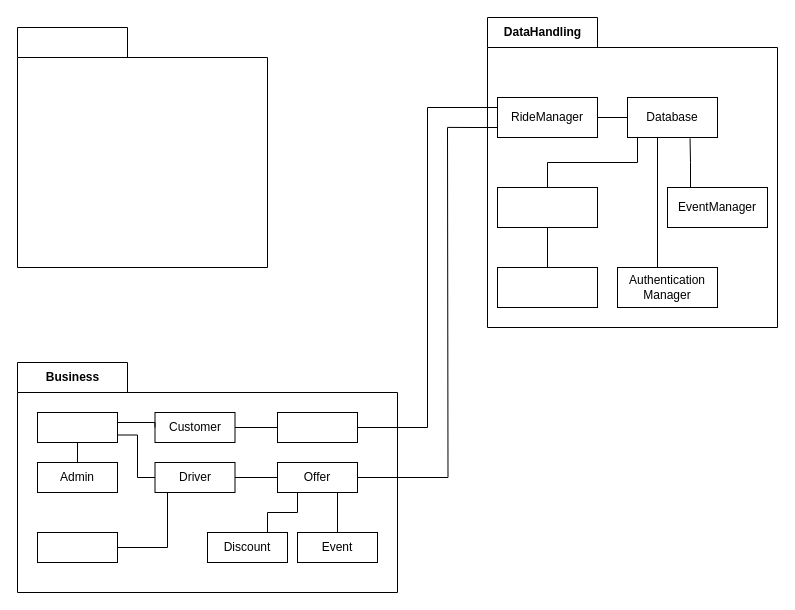
Some shapes in this 795 by 610 pixel diagram are drawn without their labels. Each missing label, with the centre of its shape:
Account: point 77,427
AccountManager: point 547,287
AccountModel: point 547,207
Interfaces: point 142,147
Rate: point 77,547
Request: point 317,427
